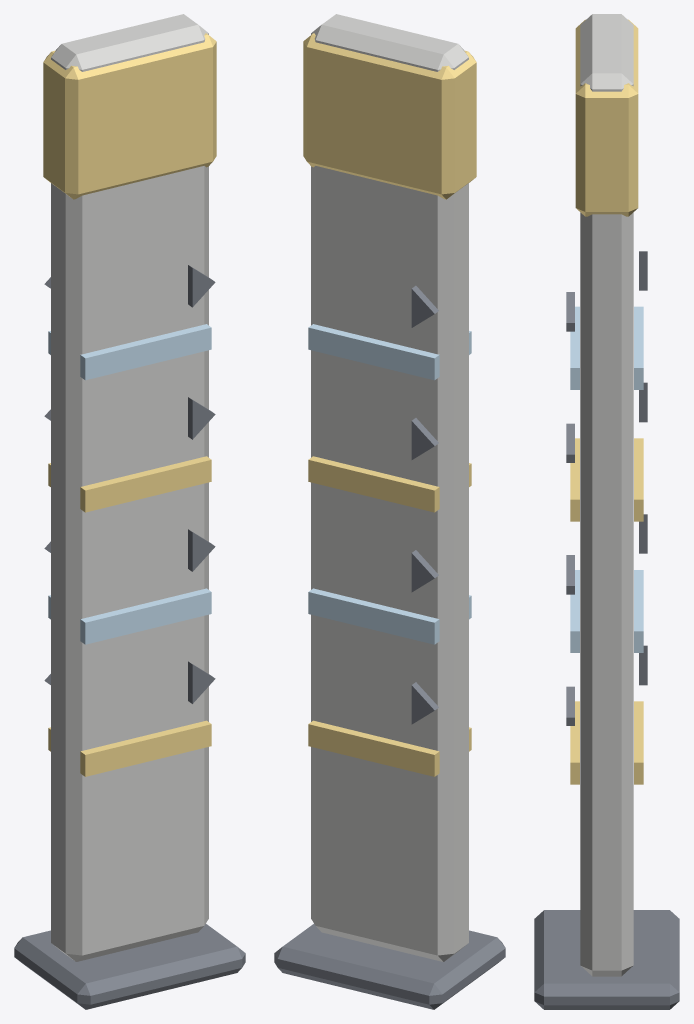
File: medical-23638.glb
The picture shows the model from 3 angles, left to right: view 1: azimuth 30°, elevation 25°; view 2: azimuth 150°, elevation 25°; view 3: azimuth 270°, elevation 25°; orthographic projection.
Visible parts, largest first — view 1: wayfinding-sign-sun; view 2: wayfinding-sign-sun; view 3: wayfinding-sign-sun.
Boxes of the visible parts, left/top/right/bottom form: wayfinding-sign-sun: left=14, top=14, right=245, bottom=1009; wayfinding-sign-sun: left=274, top=14, right=505, bottom=1009; wayfinding-sign-sun: left=534, top=14, right=679, bottom=1009.
Bounding box in the file's own units: 0.4001 × 2.12 × 0.3.
